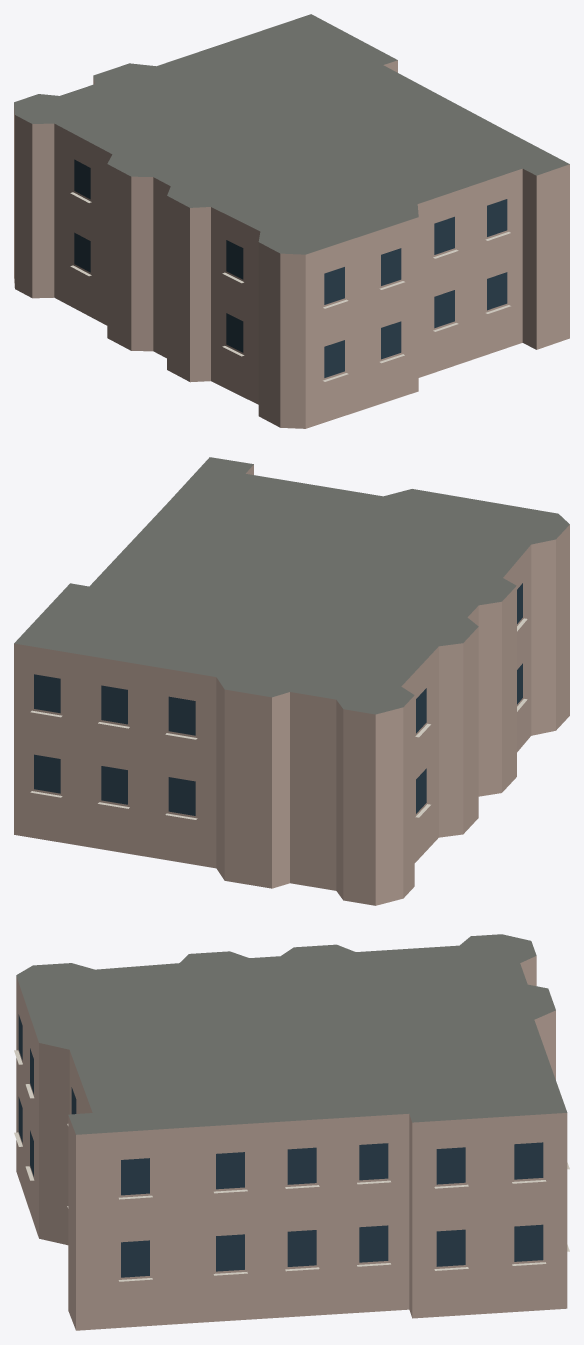
3 views of the same model, one above another, from view 1: azimuth 30°, elevation 25°; view 2: azimuth 150°, elevation 25°; view 3: azimuth 270°, elevation 25° (orthographic). The views are drawn at different scales.
Visible parts, largest first — view 1: Footprint 0, Inferred window bays, Window sills; view 2: Footprint 0, Inferred window bays, Window sills; view 3: Footprint 0, Inferred window bays, Window sills.
Part boxes in pixels (box(x1,y1,x2,y2)): Footprint 0: box(14, 14, 569, 428); Inferred window bays: box(74, 159, 507, 377); Window sills: box(70, 192, 510, 381); Footprint 0: box(14, 457, 569, 905); Inferred window bays: box(34, 583, 522, 815); Window sills: box(30, 618, 527, 819); Footprint 0: box(16, 934, 567, 1330); Inferred window bays: box(18, 1014, 543, 1277); Window sills: box(14, 1050, 569, 1281).
Bounding box in the file's own units: 20.03 × 9.12 × 23.45.
